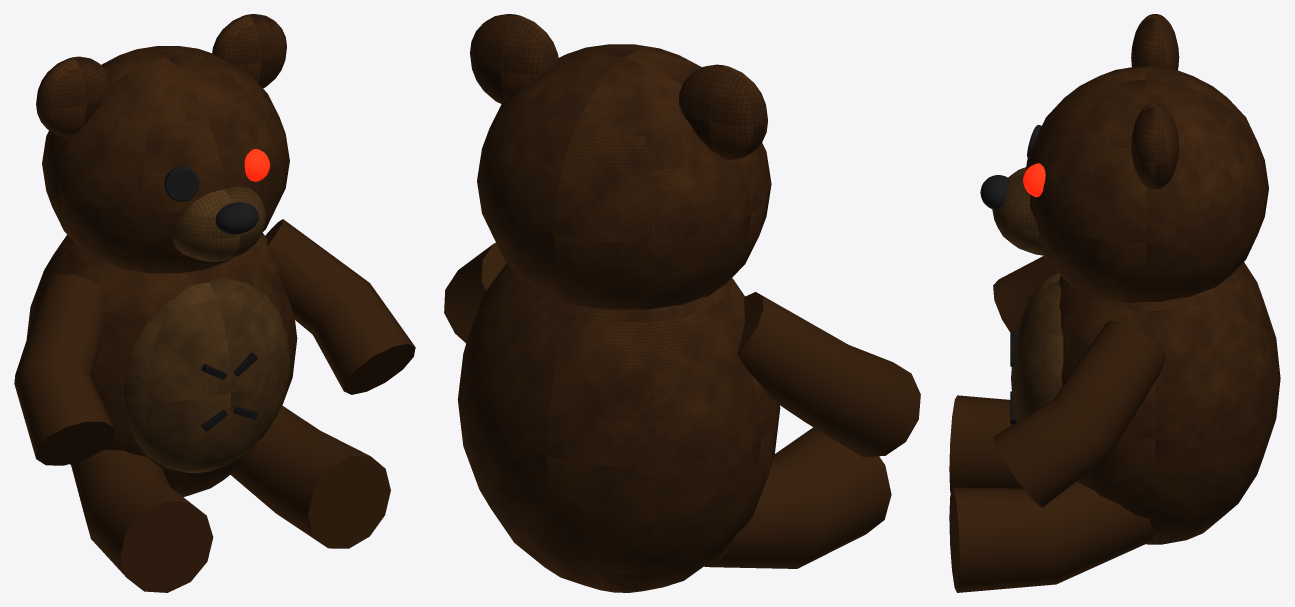
Rendered from teddy_bear.glb.
The picture shows the model from 3 angles, left to right: view 1: azimuth 30°, elevation 25°; view 2: azimuth 150°, elevation 25°; view 3: azimuth 270°, elevation 25°; orthographic projection. The views are drawn at different scales.
Visible parts, largest first — view 1: TeddyBear; view 2: TeddyBear; view 3: TeddyBear.
Part boxes in pixels (left/top/right/bottom): TeddyBear: left=14, top=14, right=415, bottom=592; TeddyBear: left=444, top=14, right=920, bottom=592; TeddyBear: left=949, top=14, right=1280, bottom=592.
Bounding box in the file's own units: 0.4954 × 0.581 × 0.3634.
5 materials, 2 textured.
